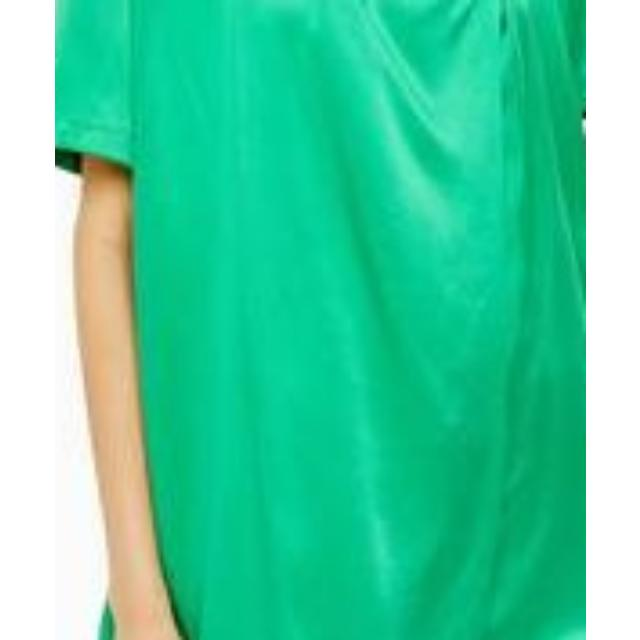silk: (54, 0, 586, 640)
